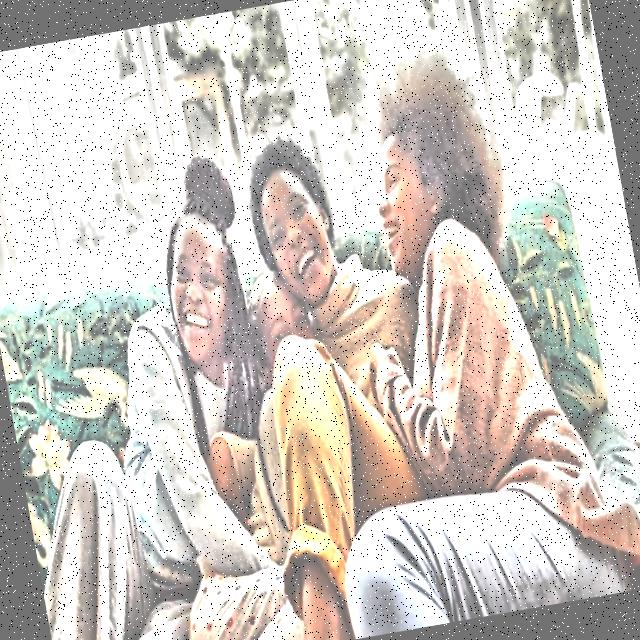happy: (340, 44, 524, 309), (142, 152, 256, 378), (230, 129, 350, 311), (236, 242, 338, 400)
